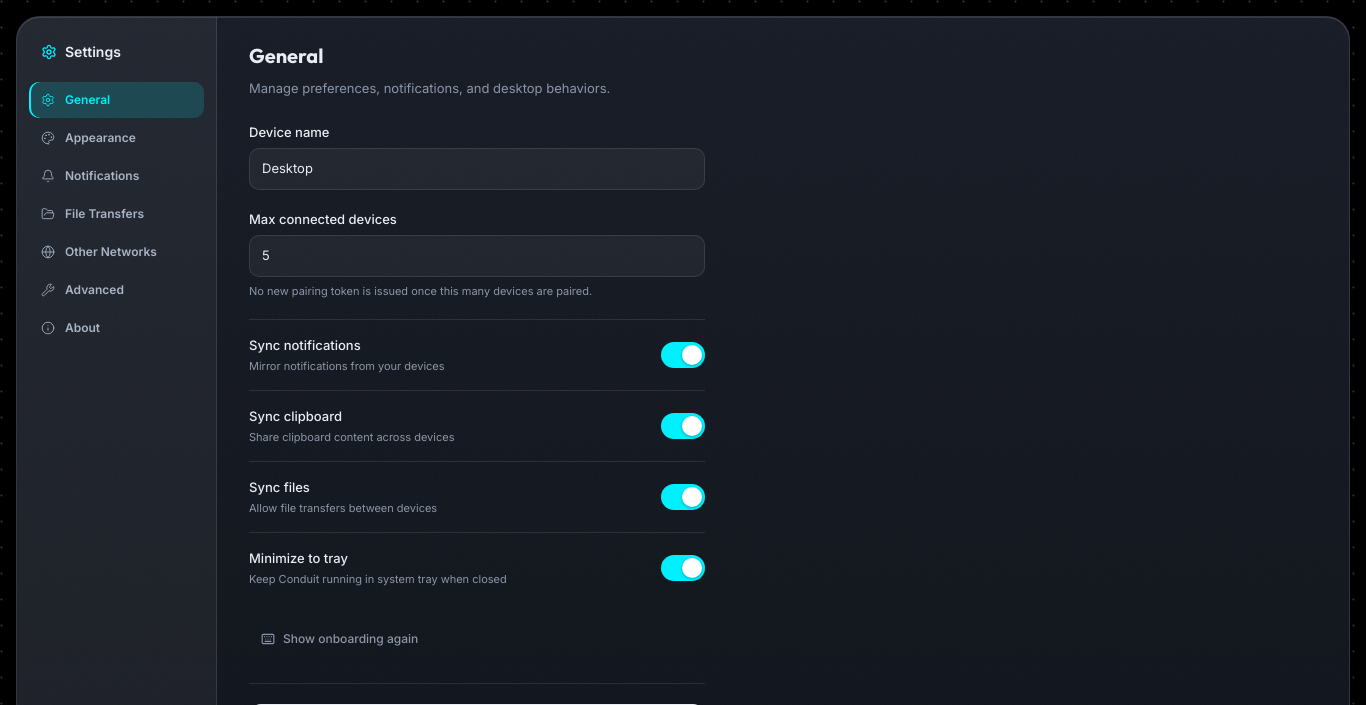
Scenario: Settings › shows the persisted relay endpoint in Advanced
This screenshot has width=1366, height=705.
Expected: the text "Settings" is shown, [65,41,121,62]
Step 1. Click the button "Advanced" → (116, 290), box [29,272,204,308]
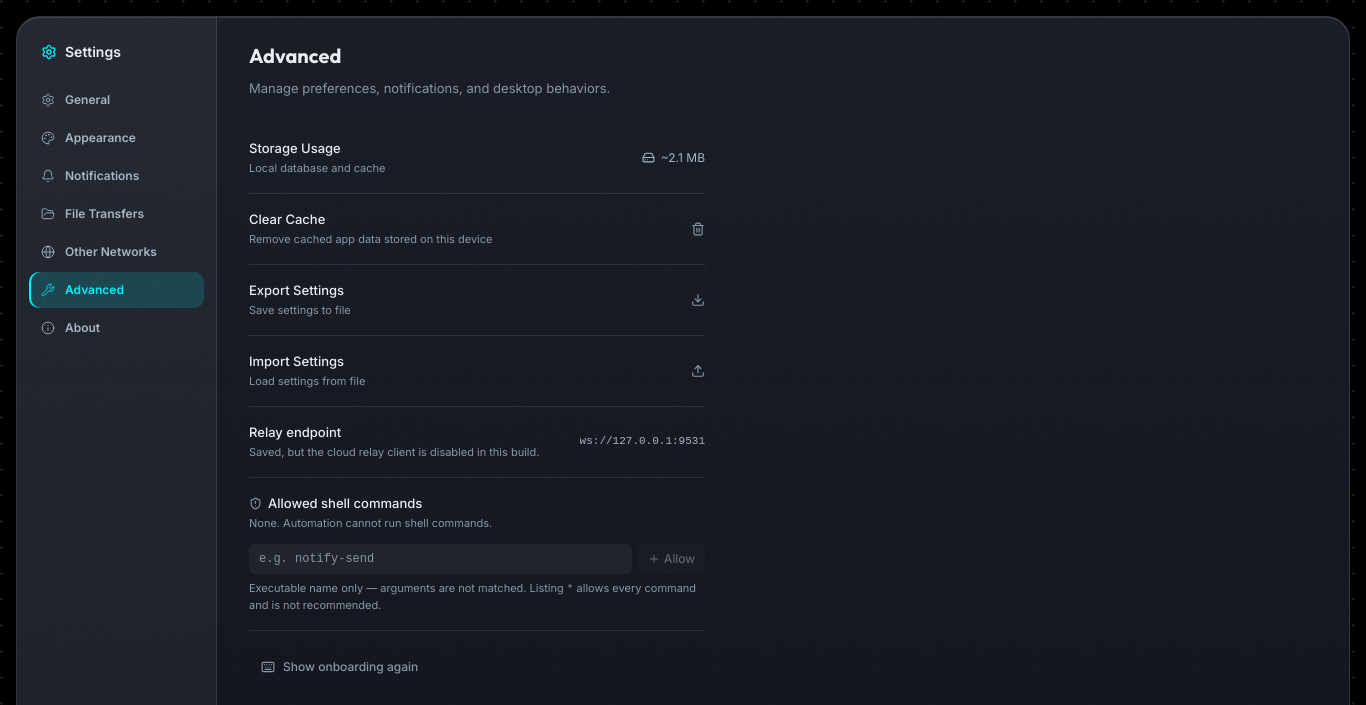
Now the text "Relay endpoint" is shown, box [249,424,341,440]
Now the text "ws://127.0.0.1:9531" is shown, box [580,433,705,450]
